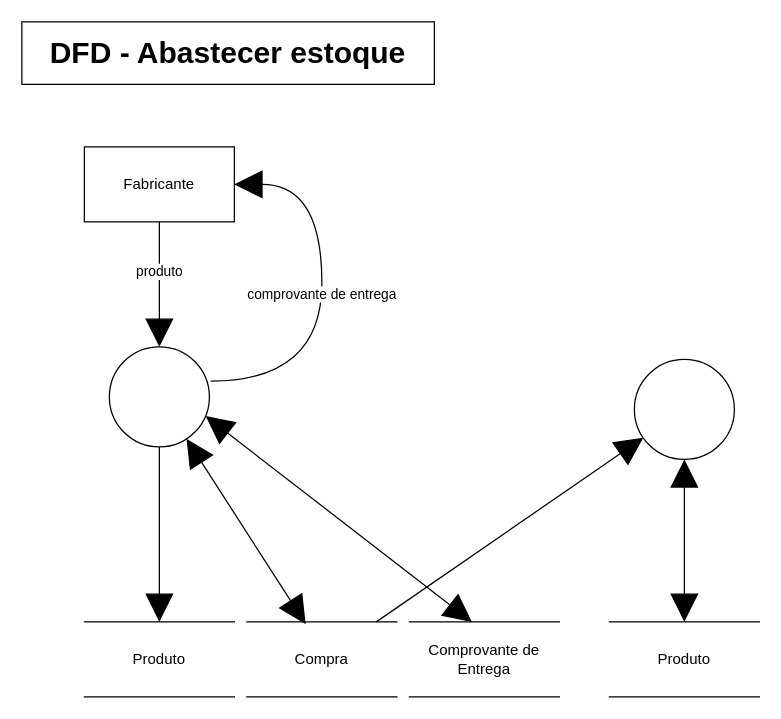
The diagram is 781 pixels wide and 719 high, and some of its shapes have lost their labels. Here are the shapes that lost their labels. From the top down, the centre of each, then its label:
At [158,396]: "Receber Produto".
At [683,408]: "Atualizar Produto".
